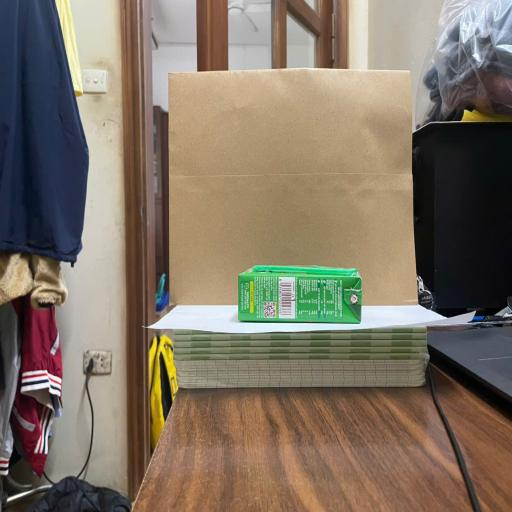milo: (239, 265, 362, 324)
